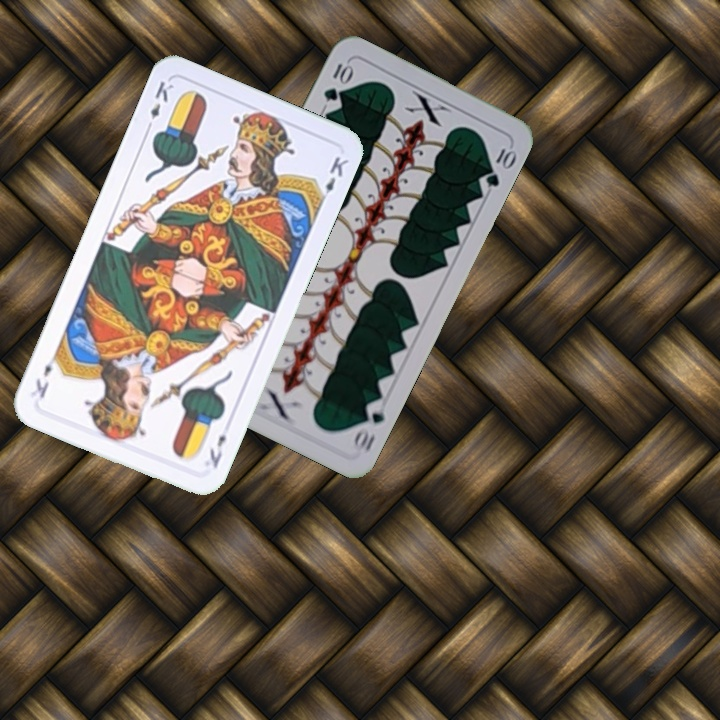EK: (141, 77, 176, 134), (205, 430, 229, 471)
G10: (348, 396, 389, 455), (319, 57, 355, 104)
